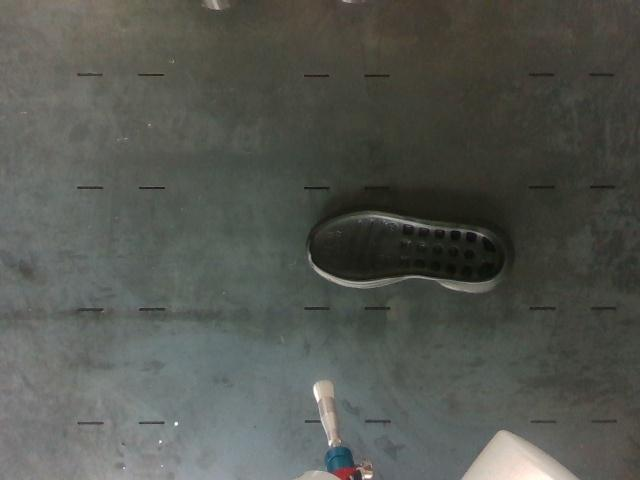shoes: (309, 213, 505, 284)
